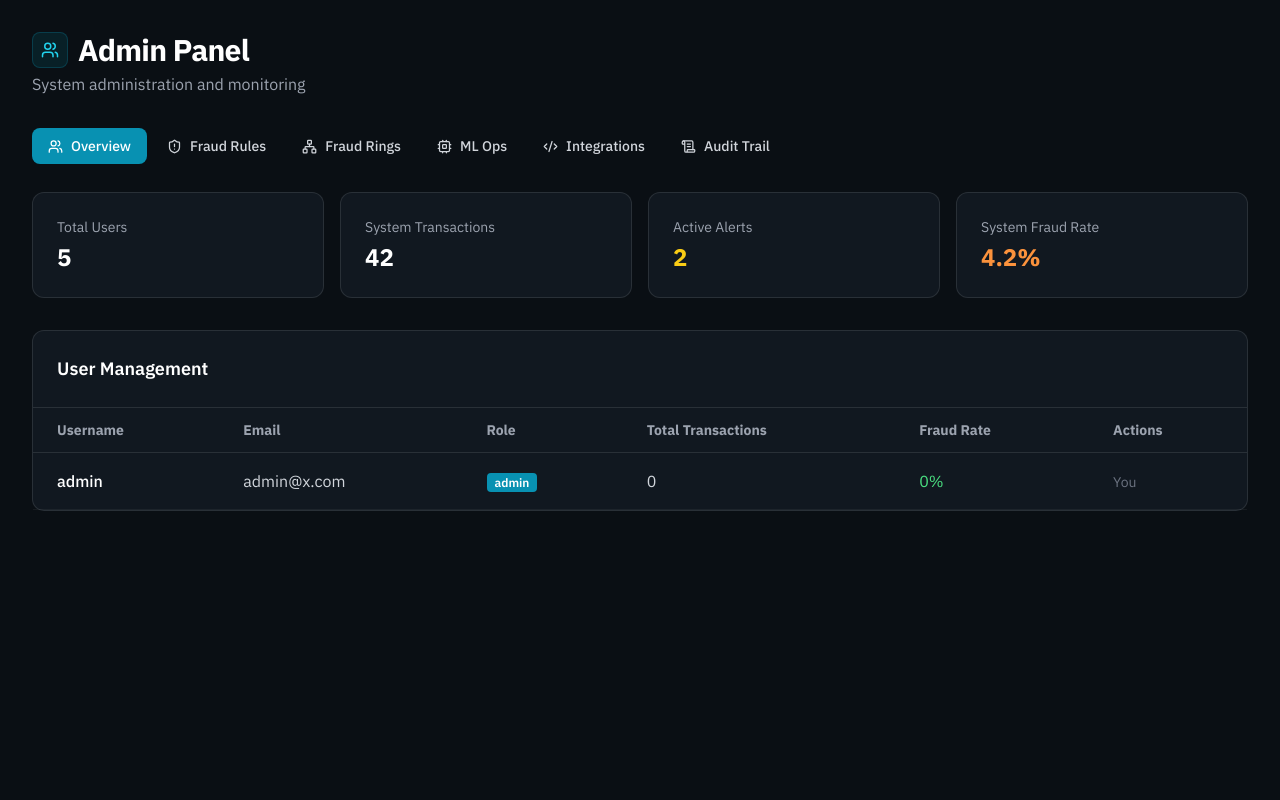
Scenario: AdminPage — Fraud Rules tab › the amount_cap type asks for a threshold instead of a value
The width and height of the screenshot is (1280, 800).
Expected: the heading "User Management" is shown, [57, 357, 208, 380]
Click the button "Fraud Rules" at point(217, 146), box [151, 128, 282, 164]
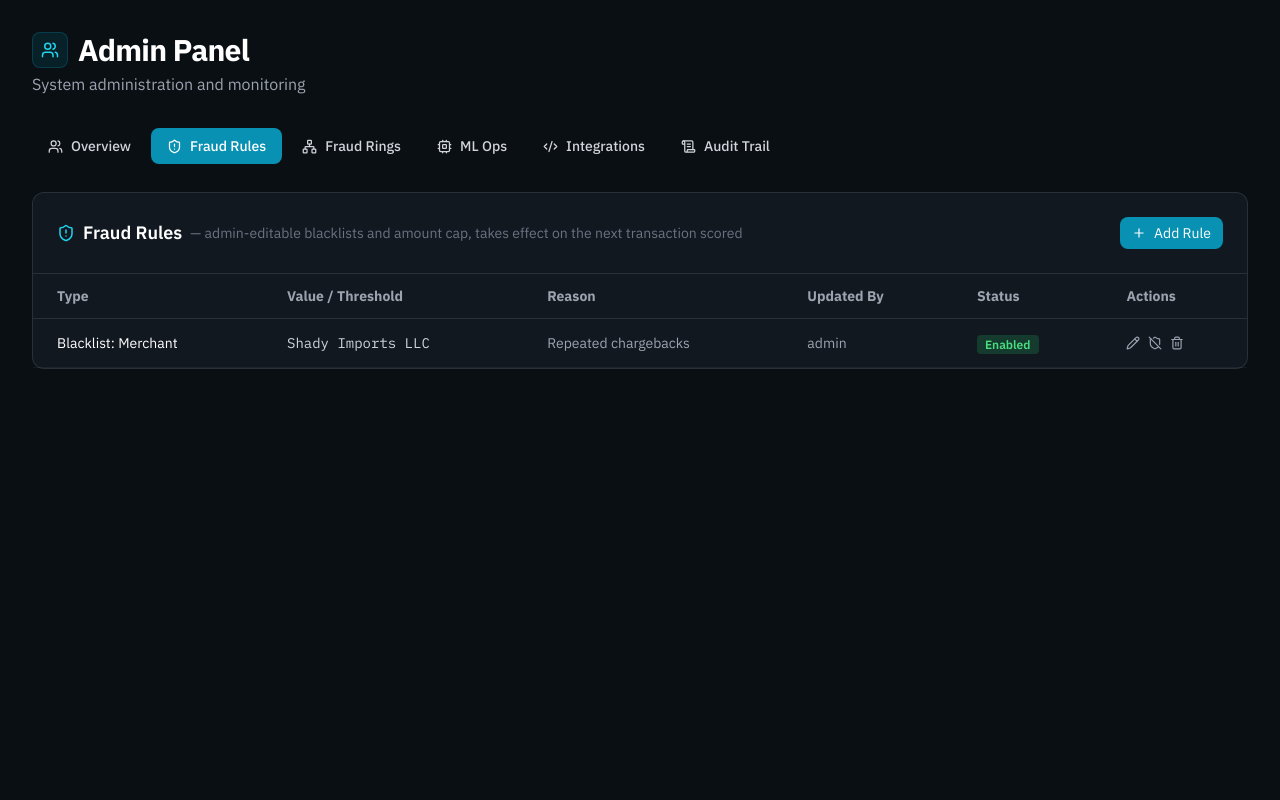
Click the button "Add Rule" at point(1172, 233), box [1120, 217, 1223, 249]
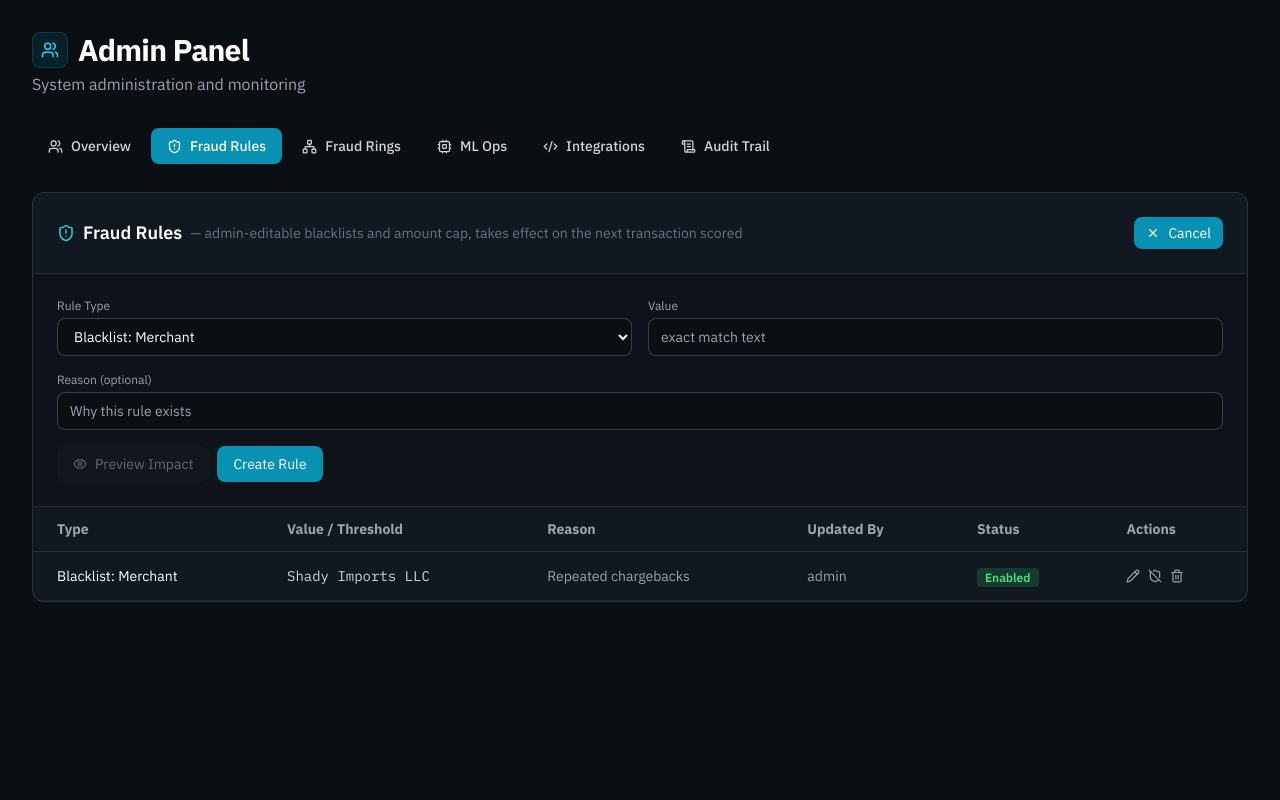
Select "Amount Cap" in the dropdown showing "Blacklist: Merchant" at point(344, 337), box [57, 318, 632, 356]
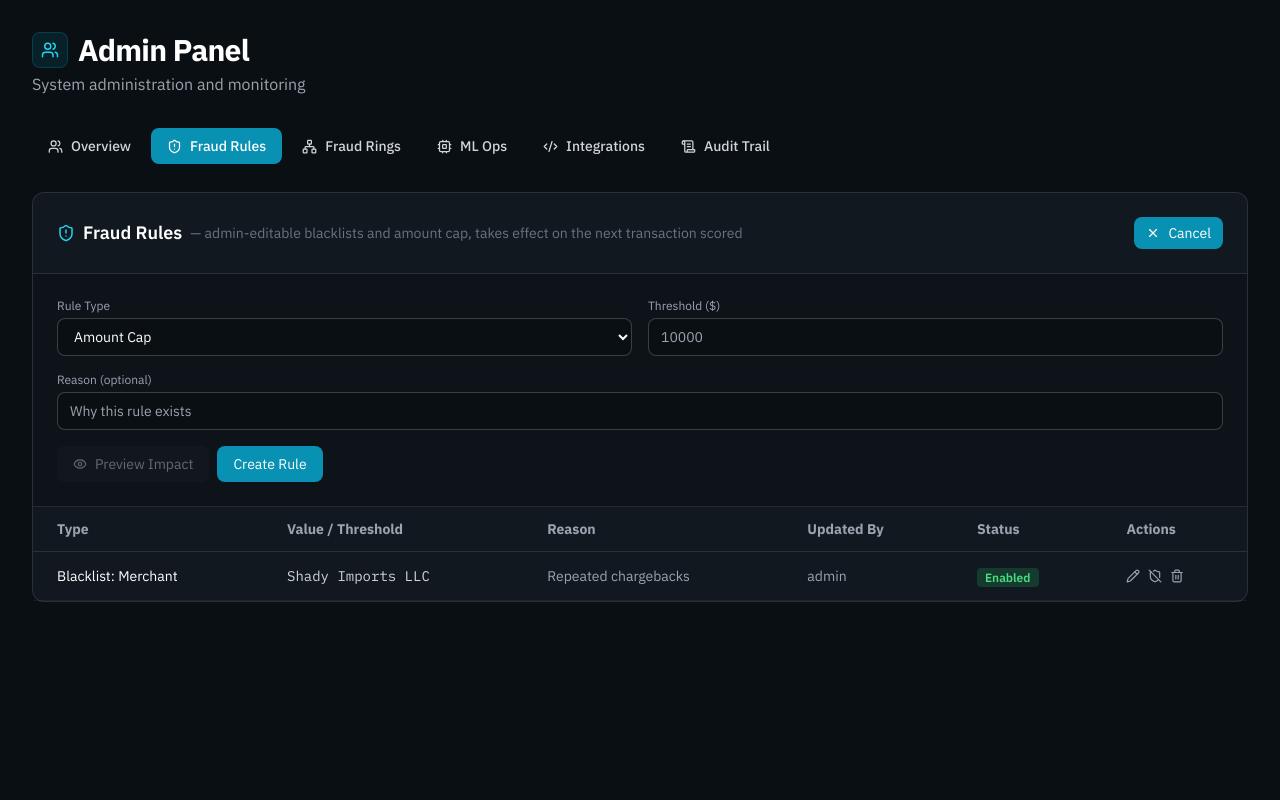
Expected: the number field with placeholder "10000" is shown, [648, 318, 1223, 356]
